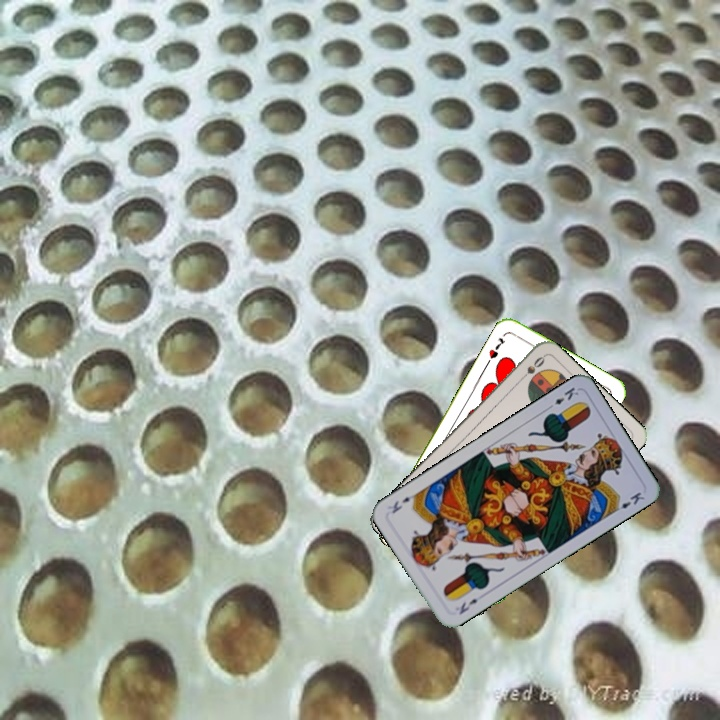EK: (543, 383, 581, 412), (455, 595, 480, 617)
H7: (485, 334, 508, 362)
SO: (515, 352, 547, 384)
